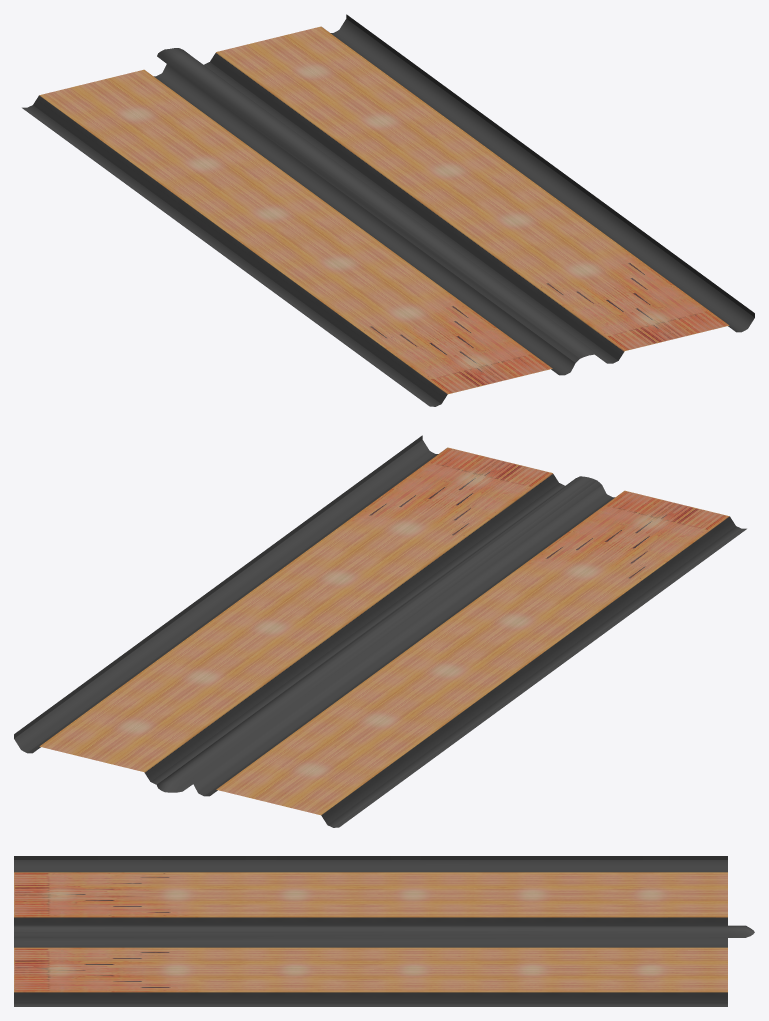
Rendered from bowling-alley-left.gltf.
3 views of the same model, one above another, from view 1: azimuth 30°, elevation 25°; view 2: azimuth 150°, elevation 25°; view 3: azimuth 270°, elevation 25° (orthographic). The views are drawn at different scales.
Visible parts, largest first — view 1: bowling-alley-left; view 2: bowling-alley-left; view 3: bowling-alley-left.
Boxes of the visible parts, x1,y1,x2,y2 form: bowling-alley-left: (22,14,754,406); bowling-alley-left: (14,435,746,827); bowling-alley-left: (14,856,754,1006).
Bounding box in the file's own units: 6.28 × 0.2858 × 13.87.
1 material, 1 textured.
